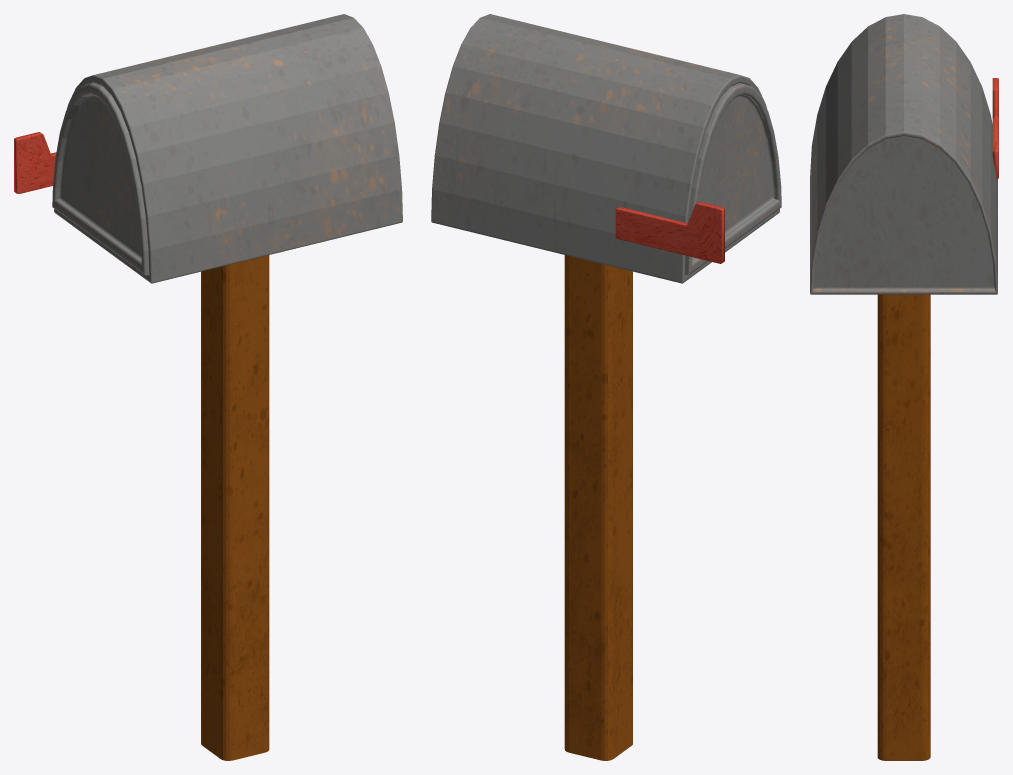
File: postBox.fbx
3 views of the same model, side by side, from view 1: azimuth 30°, elevation 25°; view 2: azimuth 150°, elevation 25°; view 3: azimuth 270°, elevation 25° (orthographic). The views are drawn at different scales.
Visible parts, largest first — view 1: Circle.002, Circle.003, Circle.001, Cube.001; view 2: Circle.002, Circle.003, Circle.001, Cube.001; view 3: Circle.002, Circle.003, Cube.001.
Part boxes in pixels (box(x1,y1,x2,y2)): Circle.002: box(54, 14, 402, 283); Circle.003: box(201, 255, 269, 760); Circle.001: box(52, 83, 149, 275); Cube.001: box(14, 132, 56, 193); Circle.002: box(431, 14, 779, 283); Circle.003: box(564, 255, 632, 760); Circle.001: box(685, 83, 781, 275); Cube.001: box(615, 202, 724, 263); Circle.002: box(810, 14, 997, 294); Circle.003: box(877, 294, 930, 760); Cube.001: box(992, 78, 998, 178).
Size of the model in its own units: 196 by 449 by 114.
Materials: 4 (4 with a texture image).
